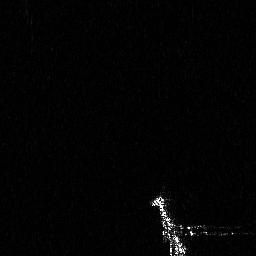ship: (148, 188, 255, 256)
